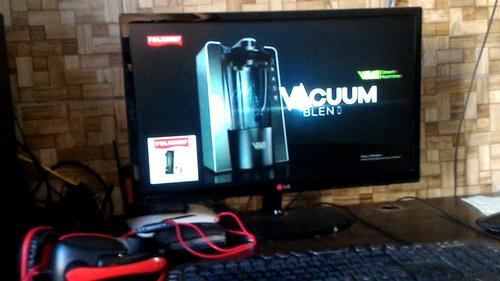Polishop #1: (147, 133, 199, 186)
